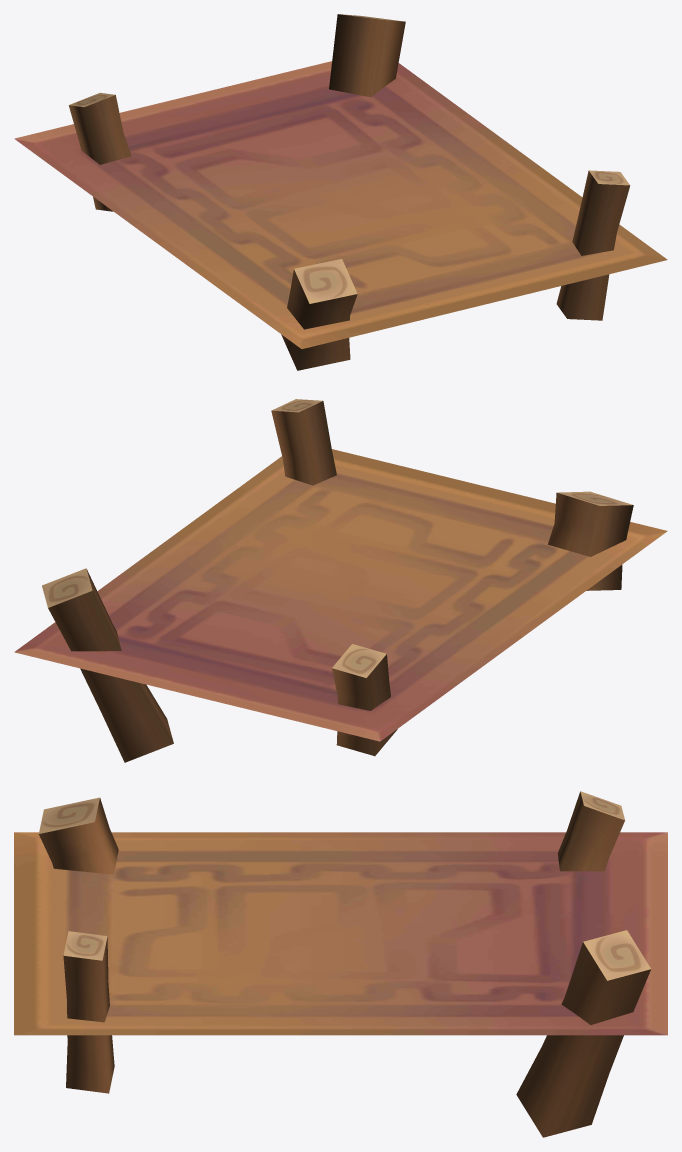
The model's file is FloorDeco2B-002_02_12_8374.fbx.
The picture shows the model from 3 angles, top to bottom: view 1: azimuth 30°, elevation 25°; view 2: azimuth 150°, elevation 25°; view 3: azimuth 270°, elevation 25°; orthographic projection. The views are drawn at different scales.
Parts seen in each view (by area): view 1: Carpet, Stick (1), Stick, Stick (2), Stick (3); view 2: Carpet, Stick (2), Stick, Stick (1), Stick (3); view 3: Carpet, Stick (2), Stick (1), Stick, Stick (3).
Part boxes in pixels (x1=…): Carpet: x1=14, y1=61, x2=667, y2=348; Stick (1): x1=556, y1=170, x2=630, y2=320; Stick: x1=281, y1=259, x2=357, y2=370; Stick (2): x1=329, y1=14, x2=405, y2=97; Stick (3): x1=68, y1=92, x2=131, y2=211; Carpet: x1=14, y1=449, x2=667, y2=741; Stick (2): x1=42, y1=568, x2=173, y2=762; Stick: x1=548, y1=491, x2=633, y2=590; Stick (1): x1=271, y1=399, x2=336, y2=485; Stick (3): x1=332, y1=644, x2=397, y2=756; Carpet: x1=14, y1=832, x2=667, y2=1035; Stick (2): x1=516, y1=930, x2=651, y2=1137; Stick (1): x1=63, y1=931, x2=114, y2=1093; Stick: x1=39, y1=797, x2=118, y2=874; Stick (3): x1=557, y1=791, x2=624, y2=871.
Size of the model in its own units: 1.43 by 0.6951 by 1.95.
